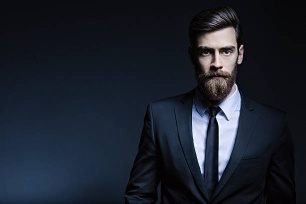male: (190, 13, 245, 103)
